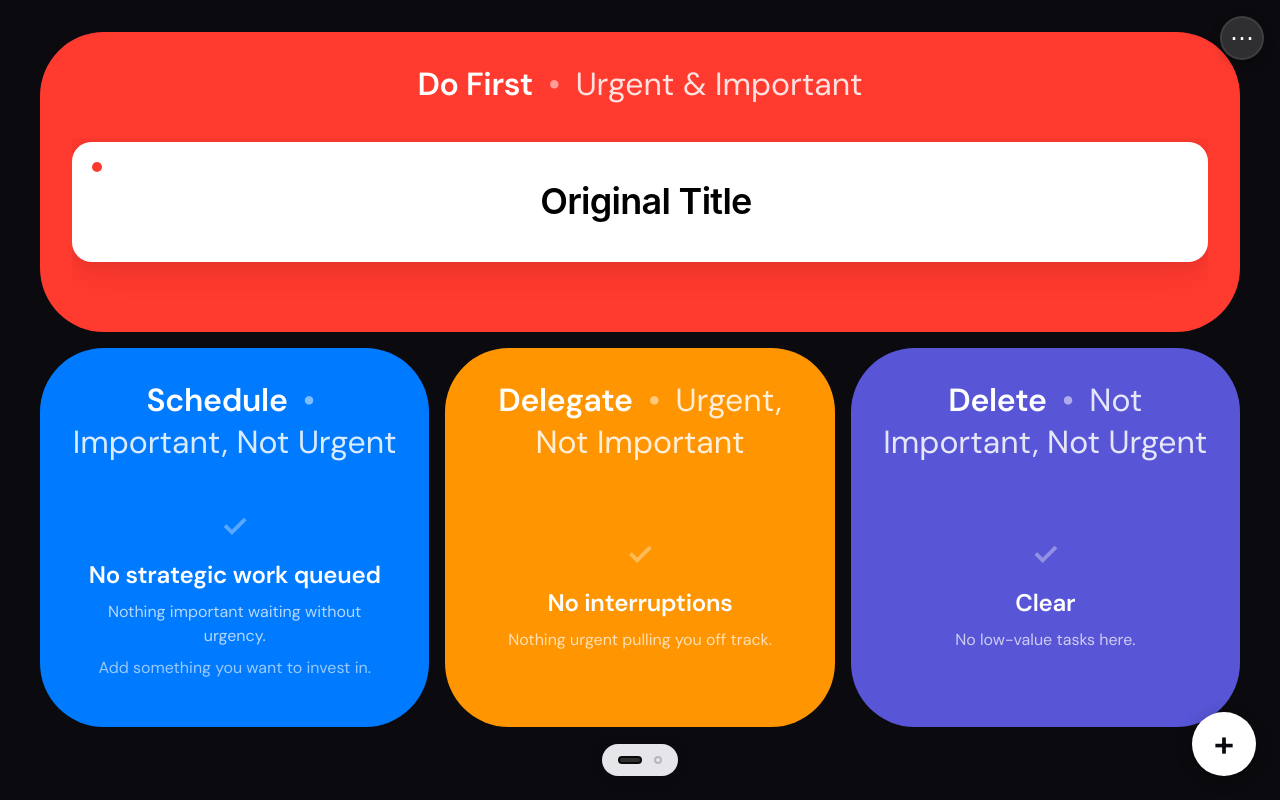
Test: Task Details Modal › edit task title updates UI + quadrant still correct
The image size is (1280, 800).
// Open modal
Click the button "Original Title" at (640, 202), box top-left (72, 142), bottom-right (1208, 262)
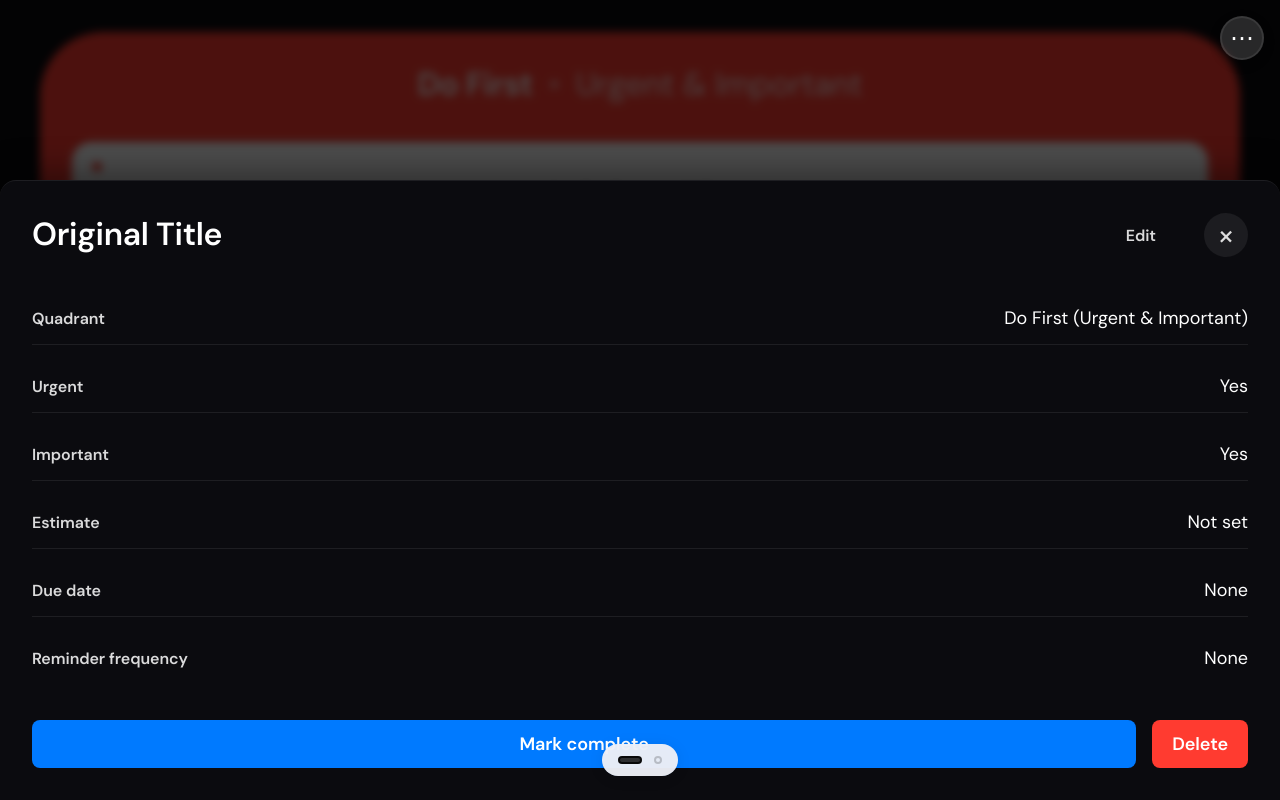
Now the dialog with test id "task-modal" is shown
// Click Edit button
Click the button with test id "edit-button" at (1141, 235), box top-left (1114, 216), bottom-right (1168, 254)
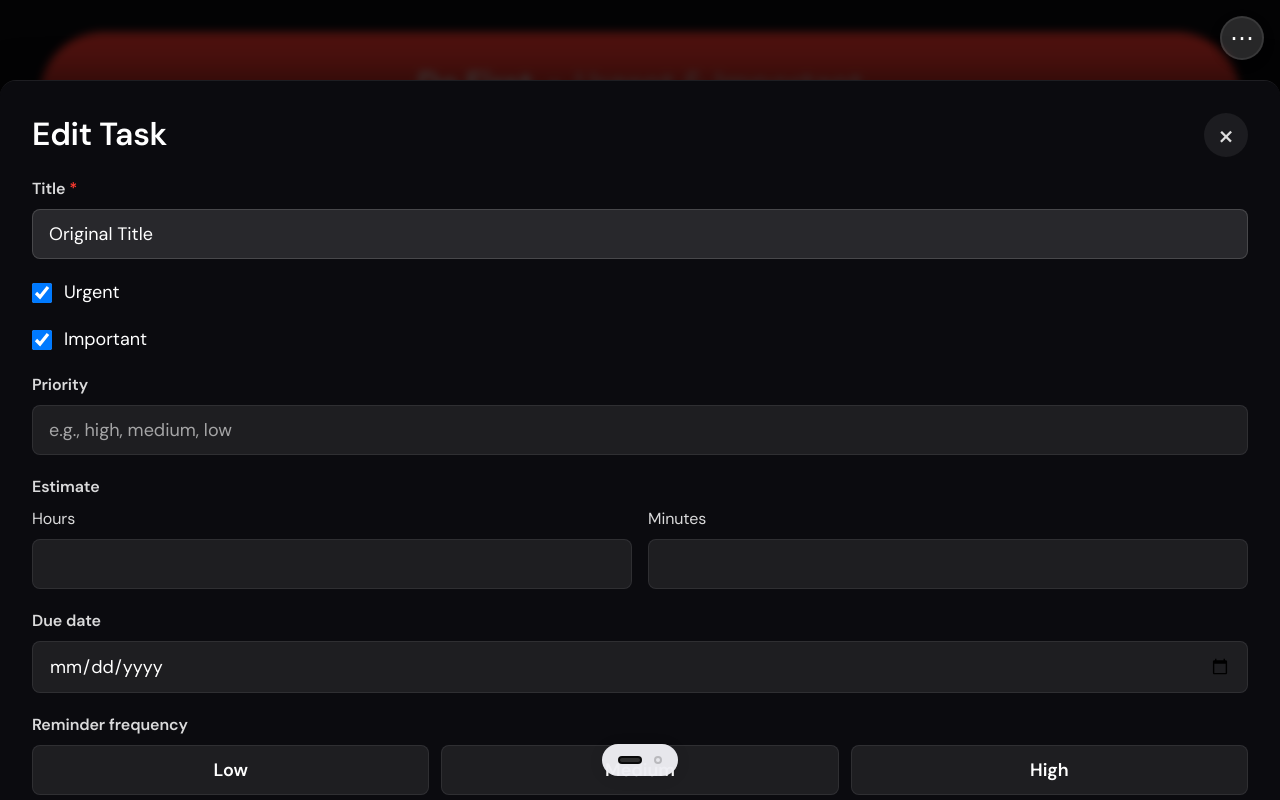
// Change title
Replace the text in the field with test id "edit-title-input" with "Updated Title" at (640, 234), box top-left (32, 209), bottom-right (1248, 259)
(page scrolled)
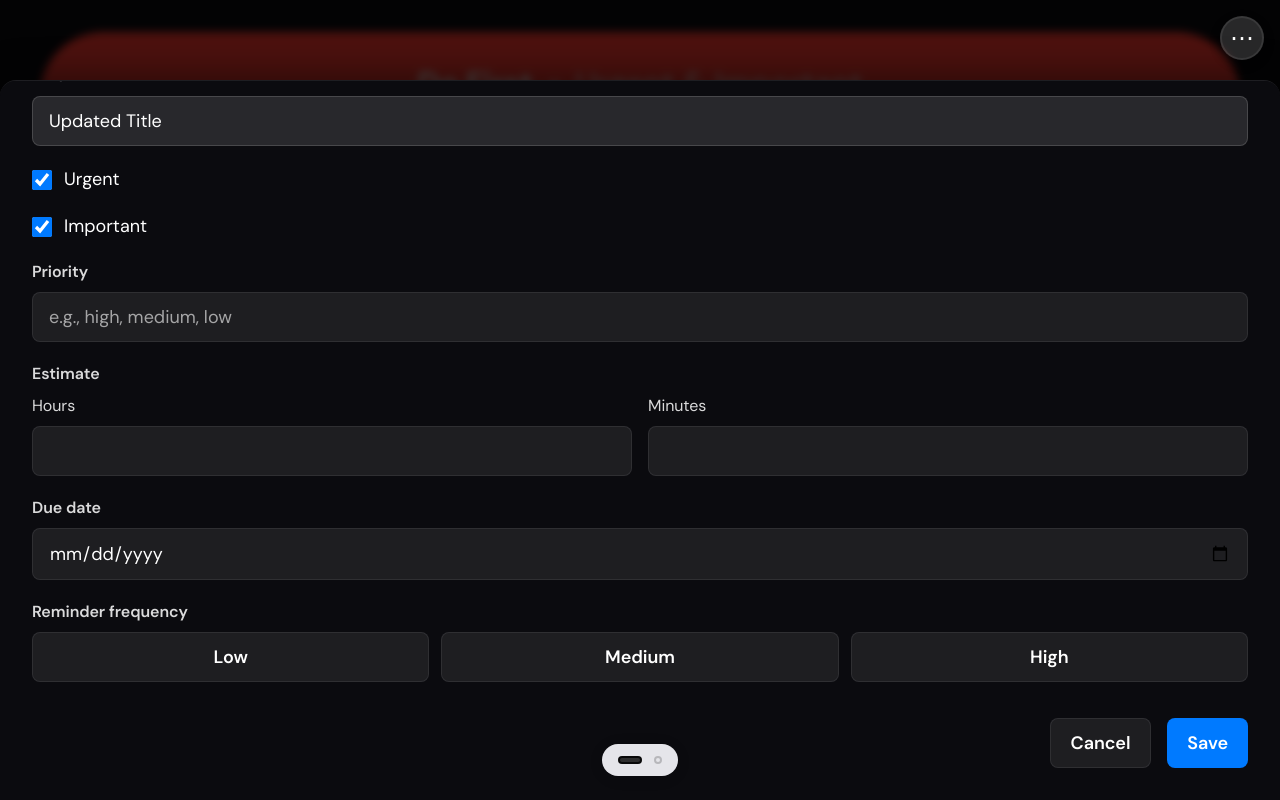
Click the button with test id "save-button" at (1208, 743), box top-left (1167, 718), bottom-right (1248, 768)
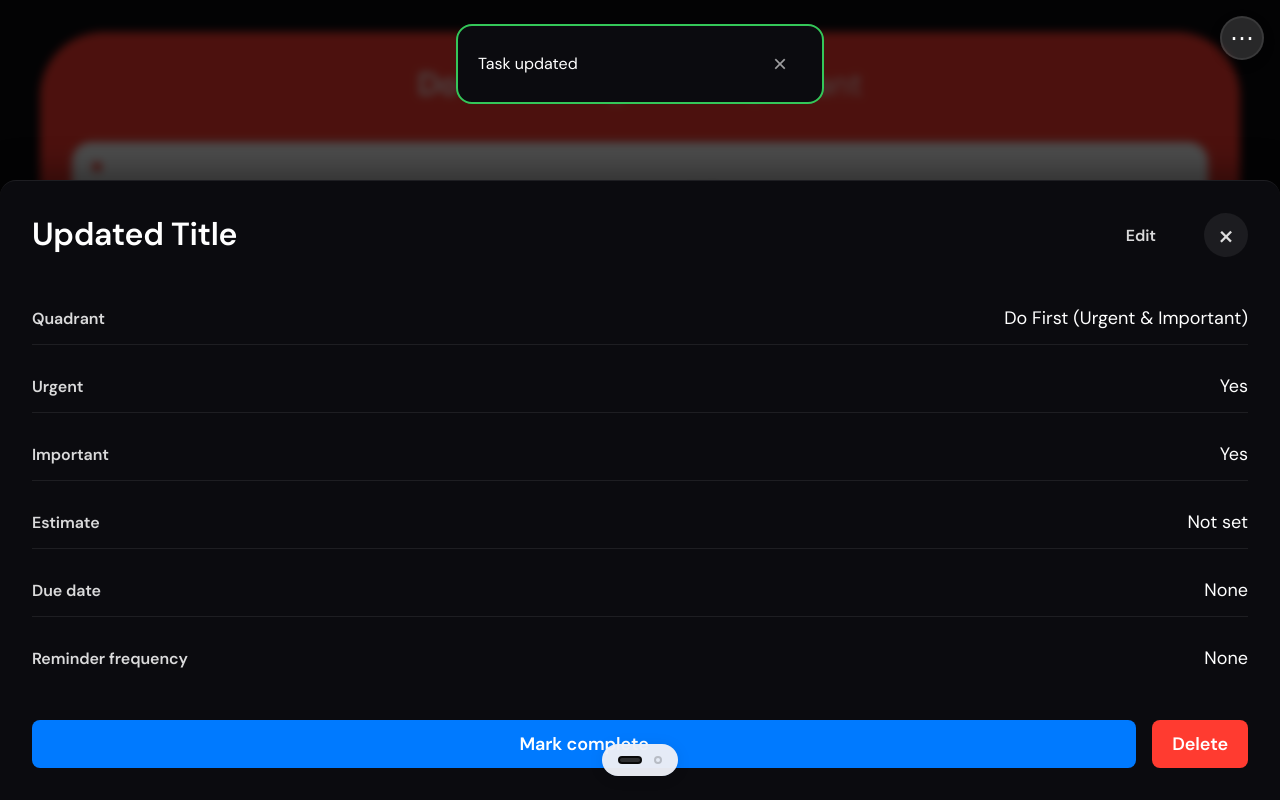
Now the heading "Updated Title" is shown, box top-left (32, 213), bottom-right (237, 255)
// Close modal
Click the element with class "task-details-modal__backdrop" at (51, 32), box top-left (0, 0), bottom-right (1279, 799)
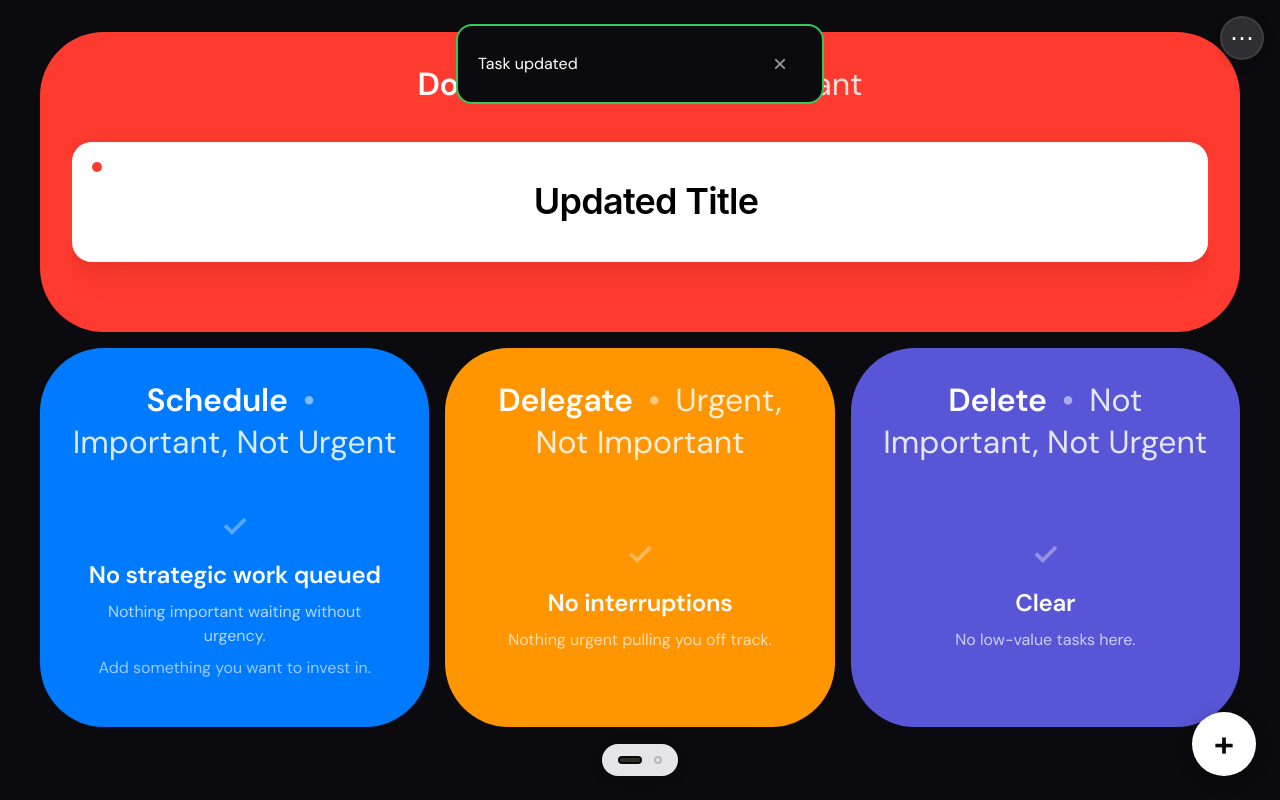
Now the element with test id "quadrant-Q1" shows "Updated Title", box top-left (534, 179), bottom-right (758, 223)
Now the dialog with test id "task-modal" is gone
